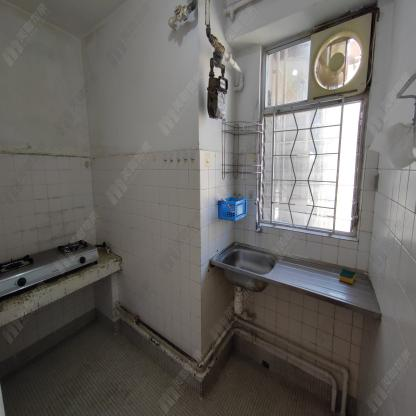Exhaust Fan: (308, 13, 373, 99)
Faucet: (251, 195, 264, 235)
Sink: (208, 241, 298, 284)
Stove: (0, 233, 112, 305)
